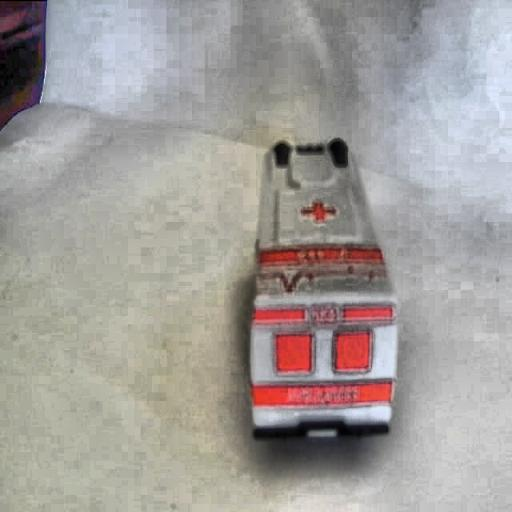ambulance: (247, 138, 397, 440)
